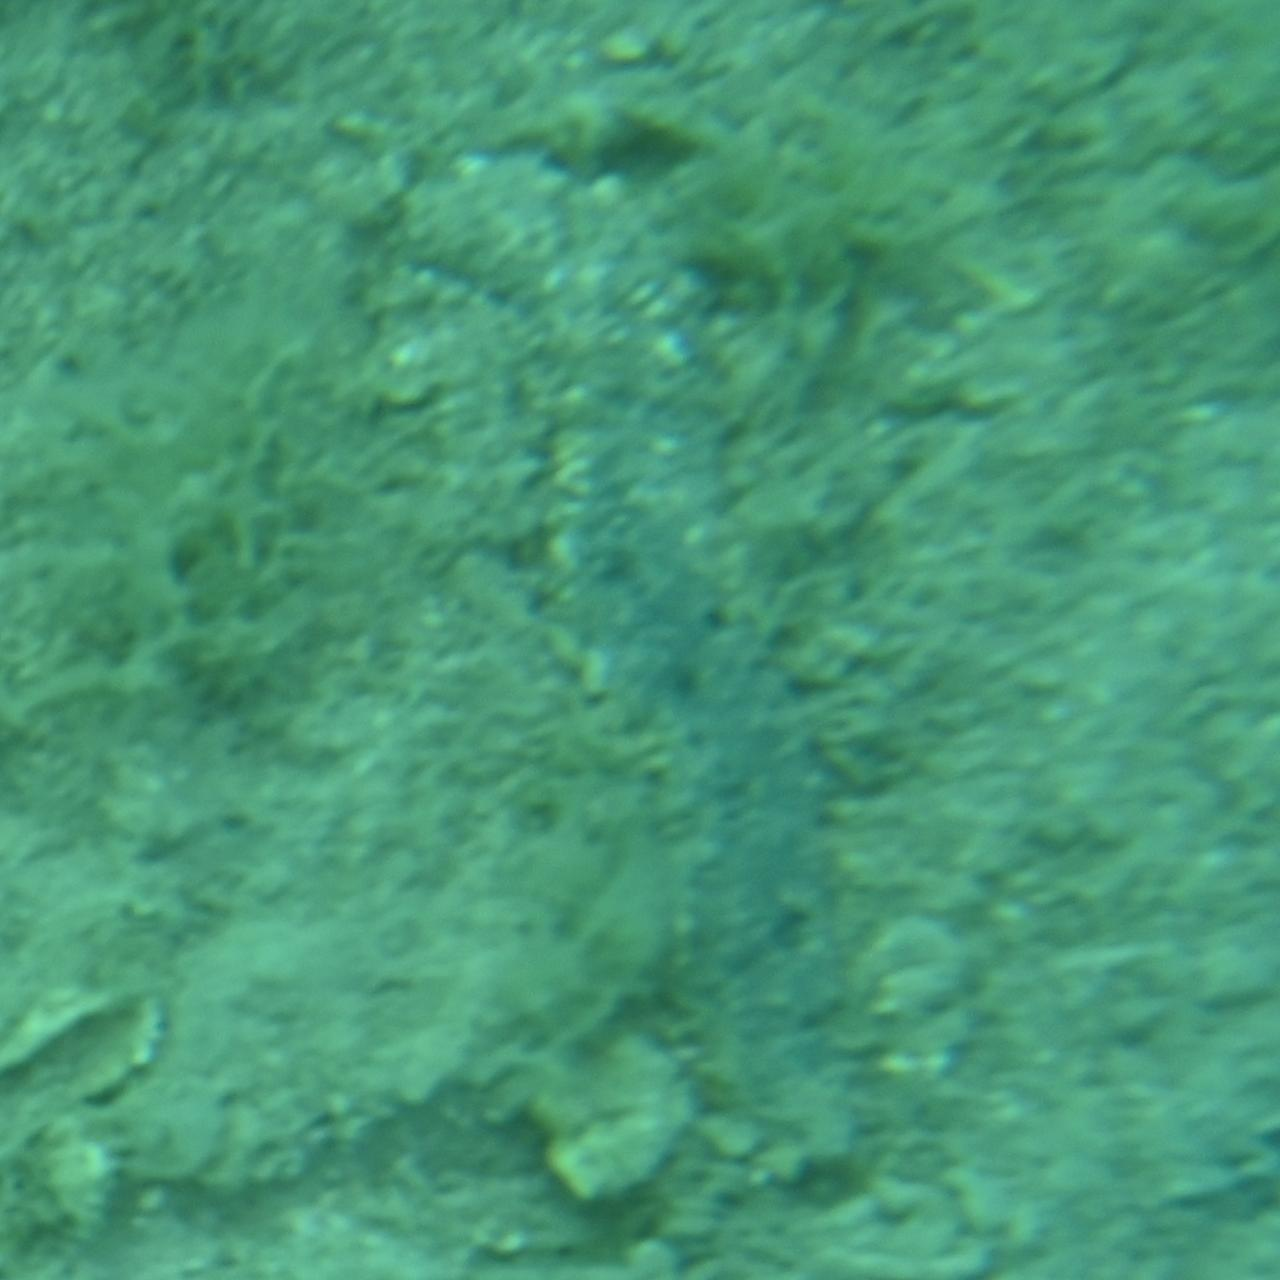Holothuria tubulosa: (423, 120, 857, 1160)
